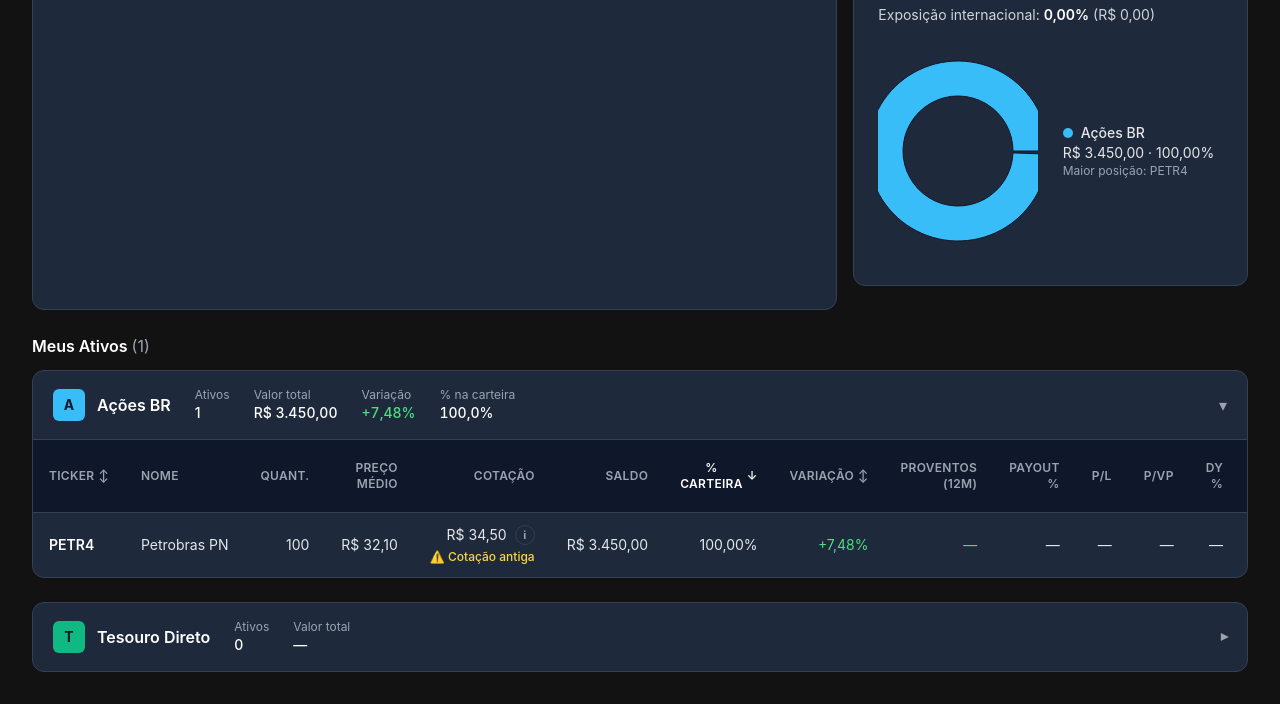
Test: CarteiraPage — rastreabilidade na tela › mostra fonte e data da cotação no tooltip da linha
This screenshot has width=1280, height=704.
(page scrolled)
What coordinates should you click on to do the following:
click the button named "Procedência da cotação de PETR4"
I would click on:
 (525, 535)
Its box is [515,525,535,545].
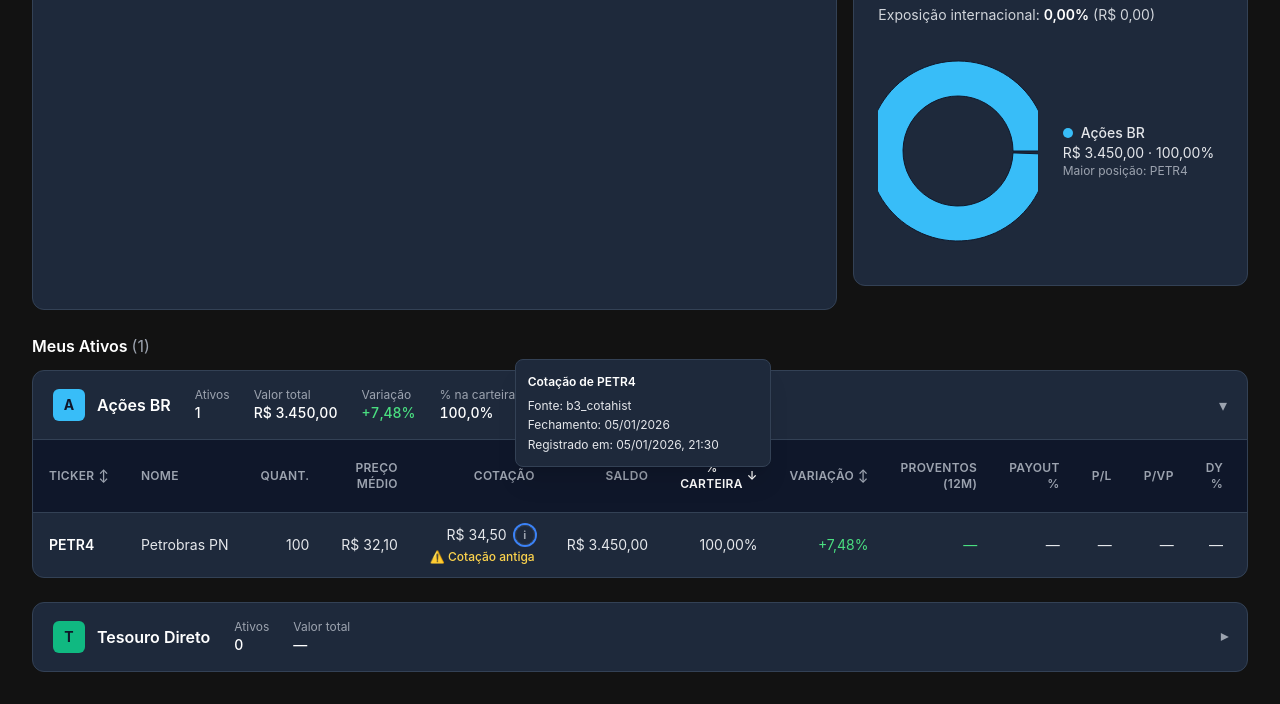
Expected: the row "PETR4" shows "Cotação antiga", [430,549,535,564]
Expected: the tooltip shows "b3_cotahist", [566,398,632,412]
Expected: the tooltip shows "05/01/2026", [604,417,670,432]
